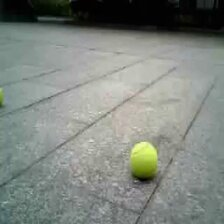tennis: (130, 143, 157, 178)
